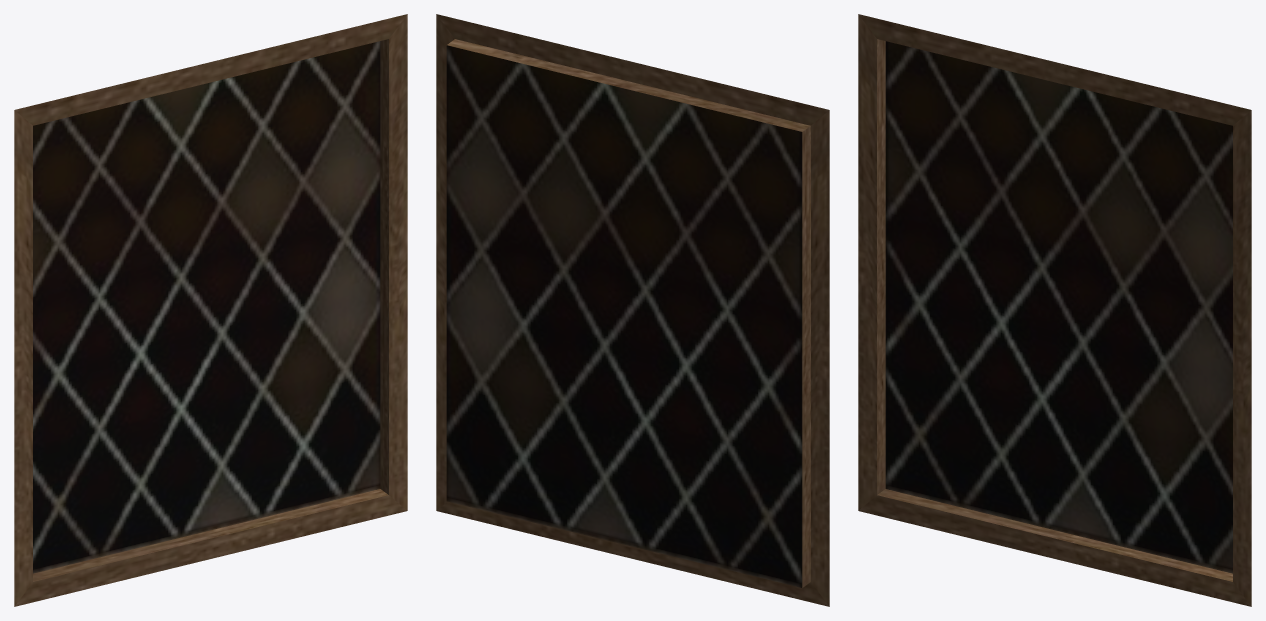
Rendered from WindowPaneC.fbx.
3 views of the same model, side by side, from view 1: azimuth 30°, elevation 25°; view 2: azimuth 150°, elevation 25°; view 3: azimuth 330°, elevation 25° (orthographic).
Visible parts, largest first — view 1: WindowPaneA_LOD0; view 2: WindowPaneA_LOD0; view 3: WindowPaneA_LOD0.
Part boxes in pixels (x1=…): WindowPaneA_LOD0: x1=14, y1=14, x2=407, y2=606; WindowPaneA_LOD0: x1=436, y1=14, x2=829, y2=606; WindowPaneA_LOD0: x1=858, y1=14, x2=1251, y2=606.
Size of what is drawn, in the model's own units: 68.53 by 82.73 by 2.55.
